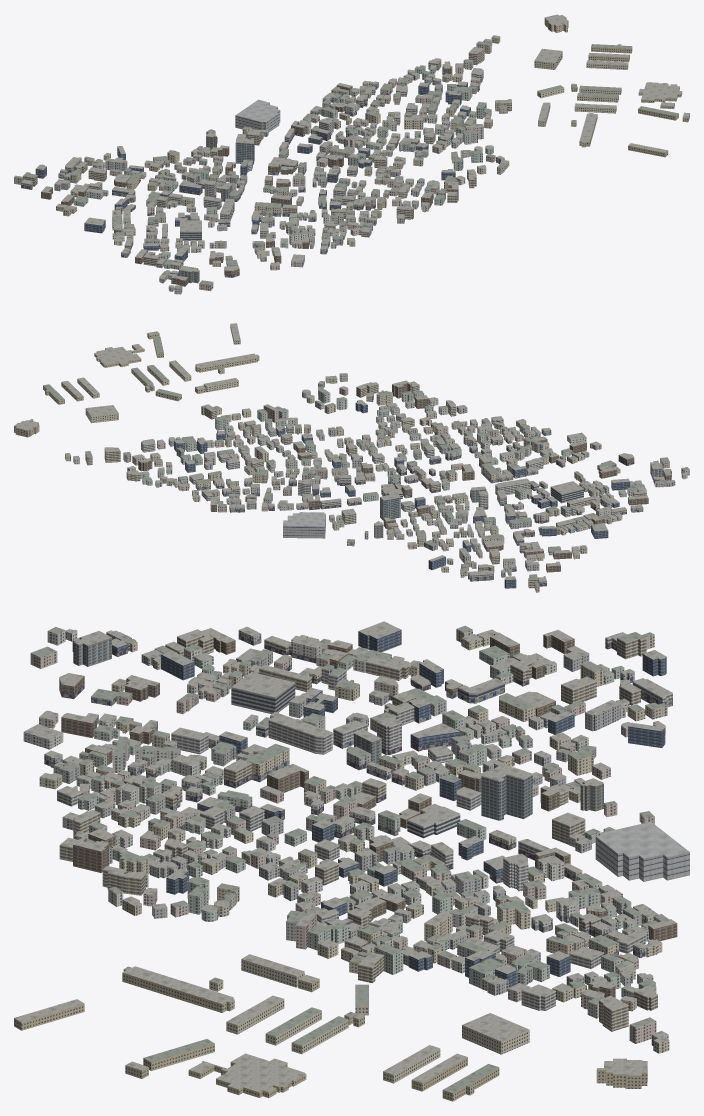
Rendered from ArahaTown_Block_W02048_S04096.gltf.
3 views of the same model, one above another, from view 1: azimuth 30°, elevation 25°; view 2: azimuth 150°, elevation 25°; view 3: azimuth 270°, elevation 25° (orthographic). The views are drawn at different scales.
Visible parts, largest first — view 1: ArahaTown_Block_W02048_S04096; view 2: ArahaTown_Block_W02048_S04096; view 3: ArahaTown_Block_W02048_S04096.
Part boxes in pixels (box(x1,y1,x2,y2)): ArahaTown_Block_W02048_S04096: box(14, 14, 689, 294); ArahaTown_Block_W02048_S04096: box(14, 323, 689, 592); ArahaTown_Block_W02048_S04096: box(14, 621, 689, 1101).
Size of the model in its own units: 1043 by 69.88 by 573.
22 materials, 22 textured.
